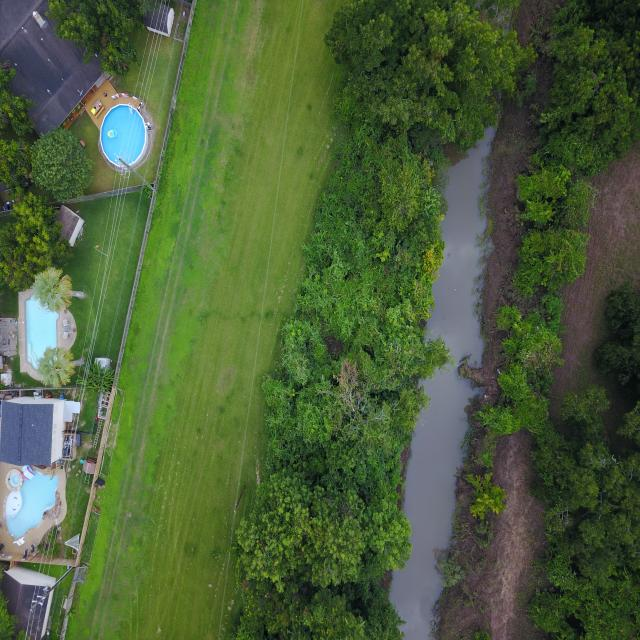fire: (391, 127, 496, 640)
